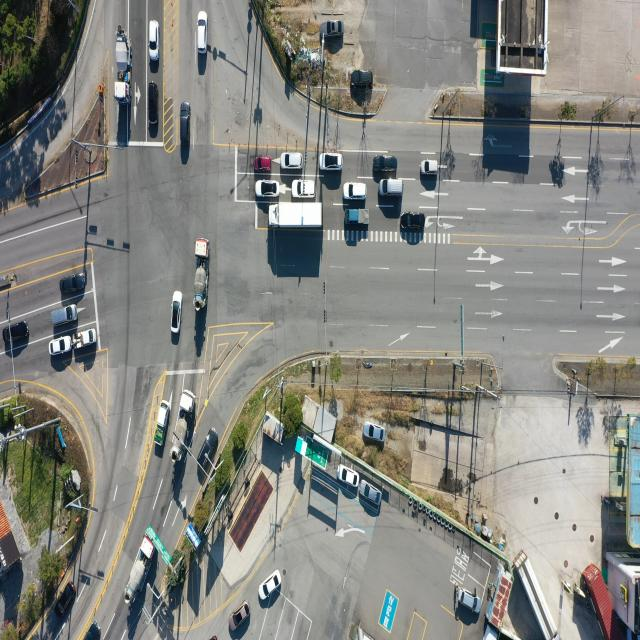car: (198, 428, 222, 472), (456, 584, 482, 620), (230, 602, 252, 632), (260, 570, 281, 601), (58, 586, 76, 618), (3, 321, 29, 343), (52, 304, 78, 326), (359, 481, 381, 506), (61, 274, 86, 295), (338, 464, 360, 486), (50, 337, 74, 357), (291, 179, 316, 198), (322, 151, 346, 170), (403, 212, 428, 230), (379, 178, 404, 196), (148, 82, 158, 126), (351, 69, 374, 88), (372, 154, 396, 172), (172, 290, 182, 333), (198, 14, 208, 56), (362, 423, 384, 442), (281, 152, 304, 170), (343, 182, 366, 200), (149, 20, 159, 60), (180, 101, 190, 141), (257, 180, 280, 197), (322, 20, 343, 38), (421, 161, 438, 176), (86, 623, 101, 640), (256, 158, 274, 172)
medium_truck: (520, 552, 561, 638), (124, 530, 158, 604), (171, 389, 197, 460), (269, 202, 323, 230), (192, 238, 208, 313), (118, 35, 134, 101)
small_truck: (157, 400, 172, 450), (345, 208, 370, 226), (71, 326, 93, 346)
